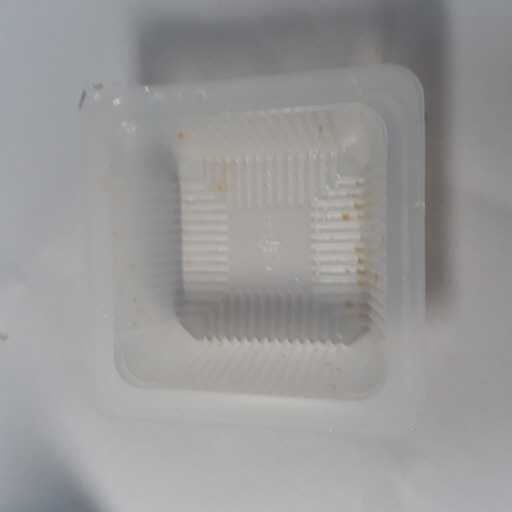Plastic_4: (83, 68, 428, 438)
